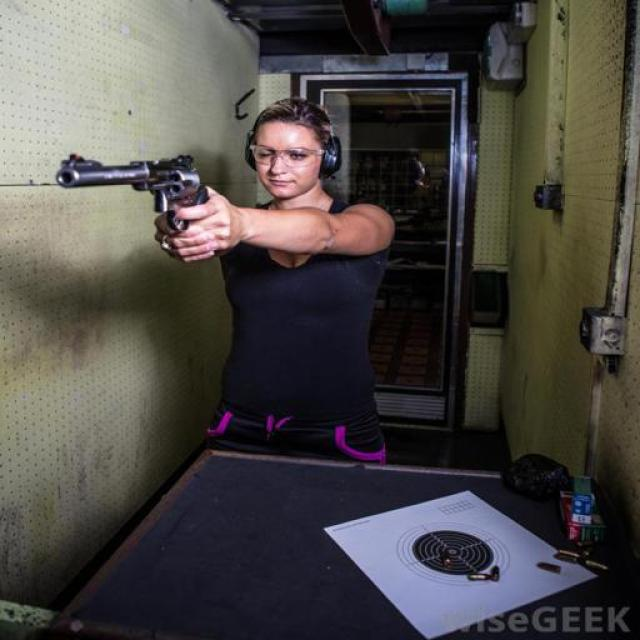pistol: (58, 152, 213, 232)
